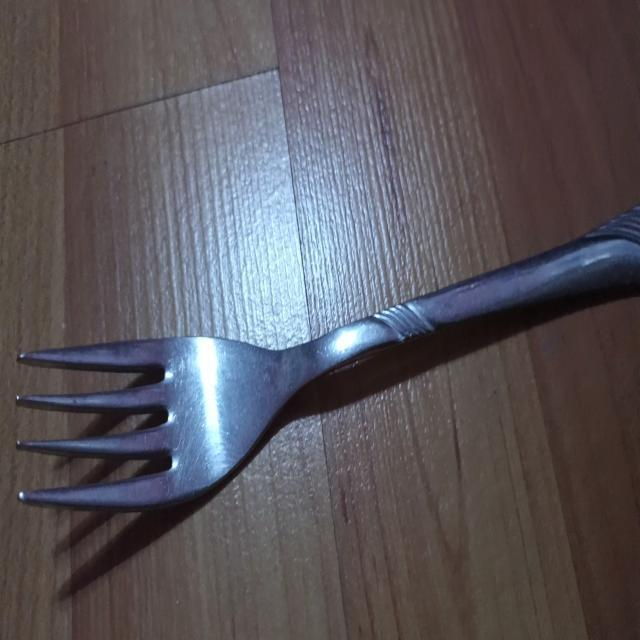spoon: (16, 202, 640, 510)
